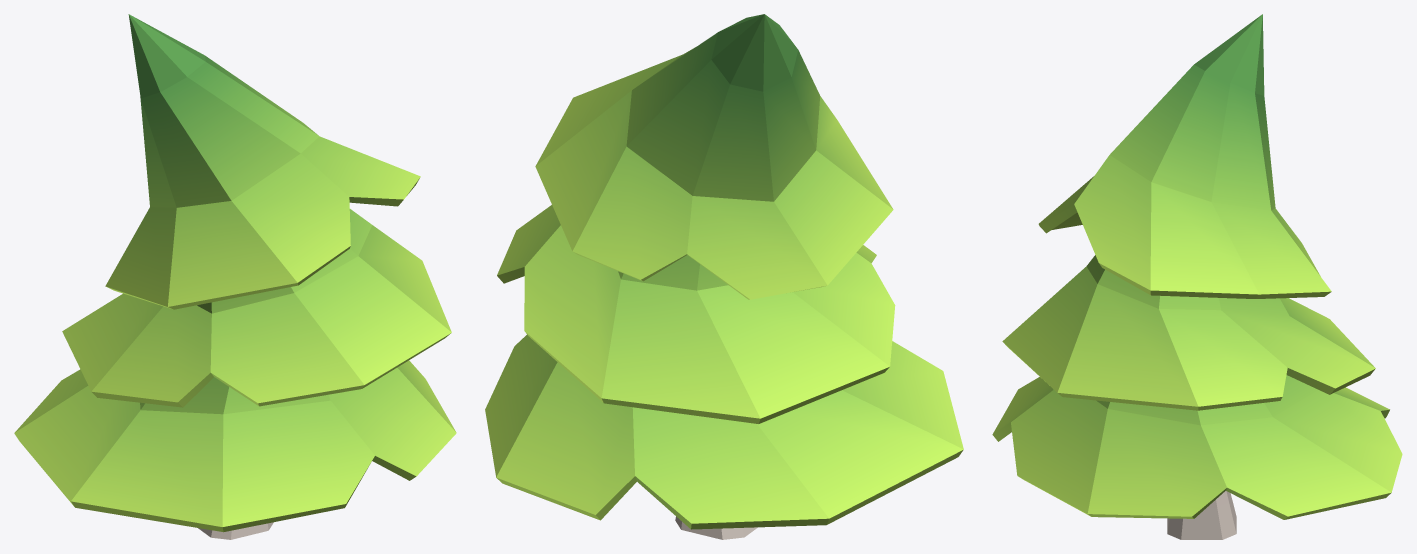
Rendered from GreenPine4.fbx.
The picture shows the model from 3 angles, left to right: view 1: azimuth 30°, elevation 25°; view 2: azimuth 150°, elevation 25°; view 3: azimuth 270°, elevation 25°; orthographic projection. The views are drawn at different scales.
Visible parts, largest first — view 1: GreenPine4; view 2: GreenPine4; view 3: GreenPine4.
Part boxes in pixels (x1,y1,x2,y2): GreenPine4: (14,14,456,539); GreenPine4: (485,14,963,539); GreenPine4: (992,14,1402,539).
Size of the model in its own units: 436 by 551 by 428.
